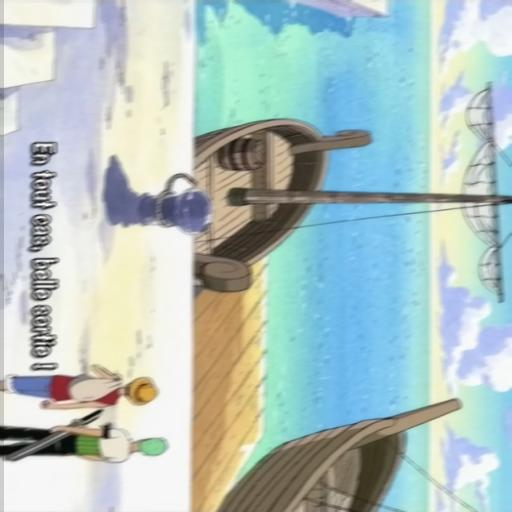Luffy: (0, 356, 173, 410)
Zoro: (0, 417, 180, 476)
